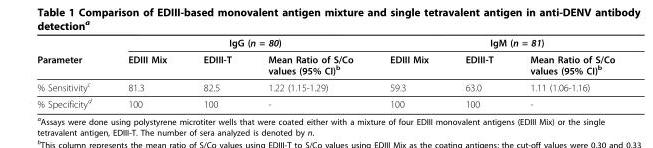table: (36, 36, 614, 109)
table column: (249, 36, 370, 109), (511, 36, 614, 109), (370, 36, 446, 109), (109, 36, 184, 109), (36, 36, 109, 109), (184, 36, 249, 109), (446, 36, 511, 109)
table column header: (36, 36, 614, 77)
table row: (36, 50, 614, 77), (36, 77, 614, 94), (36, 94, 614, 109), (36, 36, 614, 50)
table spanning cell: (109, 36, 370, 50), (370, 36, 614, 50), (36, 36, 109, 77)
